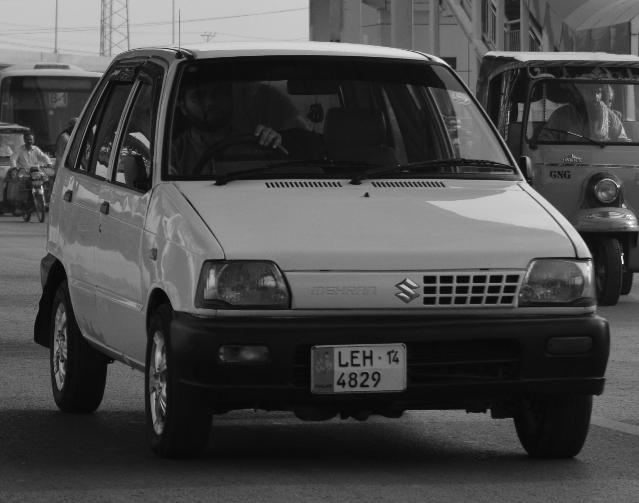Number: (336, 350, 384, 388)
